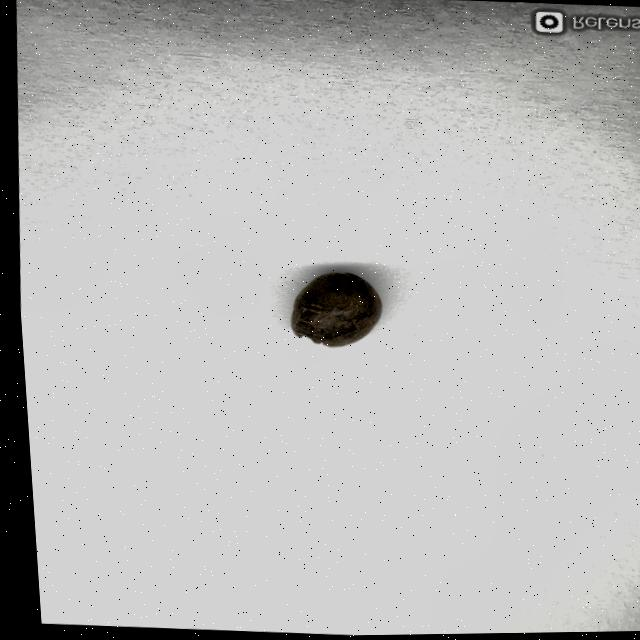Black: (284, 271, 379, 352)
